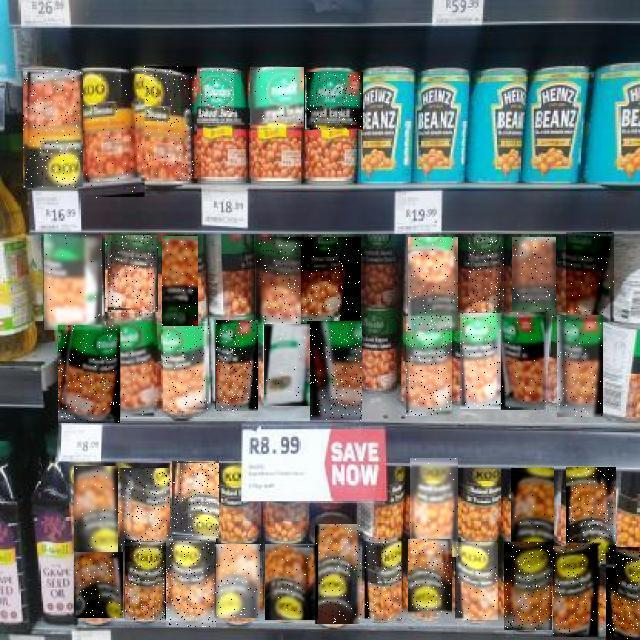Beans: (79, 74, 147, 198), (133, 66, 199, 180), (23, 70, 83, 188), (58, 325, 120, 423), (44, 235, 102, 331), (302, 237, 364, 325), (310, 322, 362, 422), (566, 468, 616, 568), (107, 320, 156, 417), (411, 458, 459, 557), (408, 237, 458, 331), (557, 315, 603, 417), (406, 316, 452, 416), (316, 525, 362, 625), (502, 313, 548, 411), (166, 538, 216, 627), (554, 546, 602, 637), (566, 232, 614, 322), (460, 313, 505, 409), (105, 236, 158, 316), (505, 542, 553, 630), (118, 468, 170, 546), (256, 237, 302, 325), (265, 545, 318, 621), (170, 462, 219, 542), (163, 326, 209, 411), (511, 468, 554, 558), (216, 320, 258, 411), (74, 466, 118, 552), (264, 325, 310, 407), (512, 237, 556, 317), (216, 544, 262, 618), (305, 72, 363, 130), (250, 68, 304, 130), (408, 540, 452, 616), (125, 540, 166, 620), (456, 542, 498, 620), (162, 236, 198, 326), (74, 553, 123, 619), (468, 237, 504, 326), (606, 547, 640, 640), (365, 537, 403, 620), (200, 69, 234, 117)
